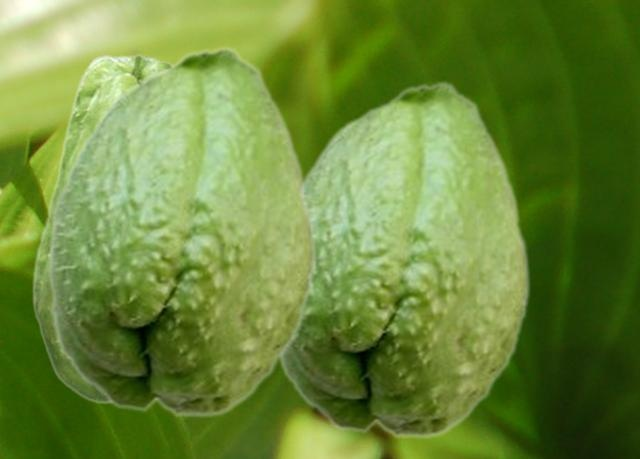sayote: (47, 44, 317, 418), (279, 79, 531, 439), (31, 53, 172, 404)
